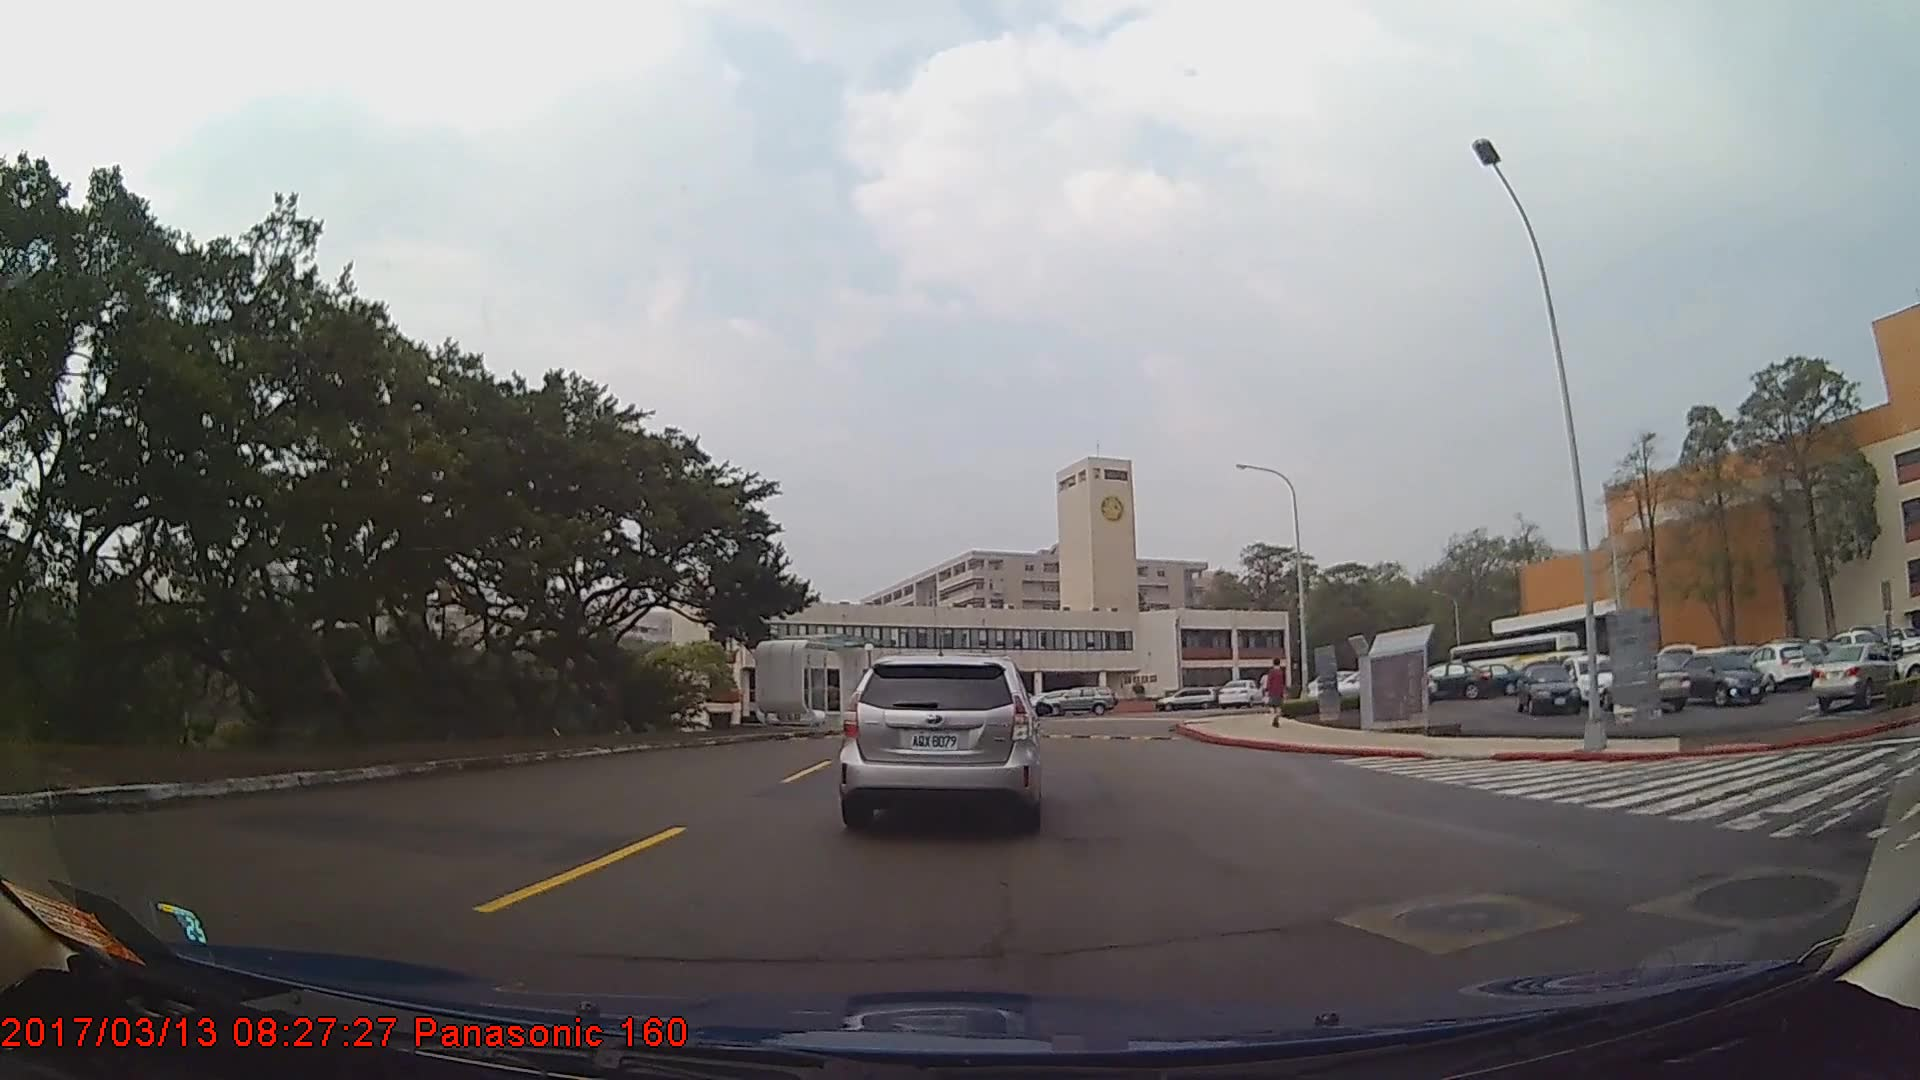pedestrian: (1264, 660, 1288, 731)
vehicle: (840, 649, 1037, 832), (1812, 639, 1901, 709), (1679, 648, 1768, 703), (1514, 661, 1581, 714), (1635, 652, 1691, 710), (1747, 638, 1809, 688), (1416, 659, 1493, 698), (1038, 684, 1116, 717), (1155, 685, 1214, 710), (1217, 678, 1259, 708)
